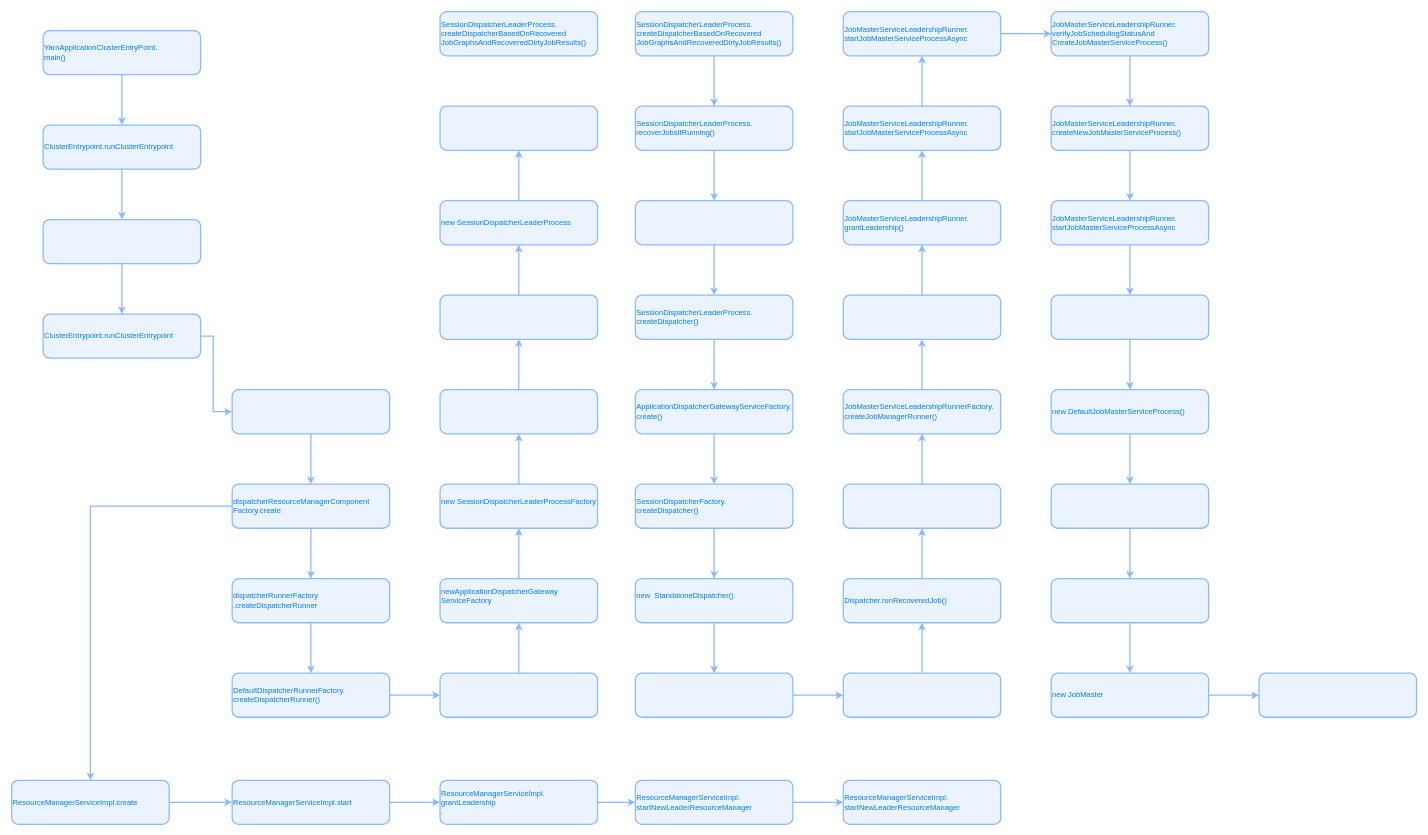
Some shapes in this 1428 by 835 pixel diagram are drawn without their labels. The box of each missing label's shape, as (x1, y1, x2, y2) in pixels:
ApplicationDispatcherLeaderProcessFactory Factory.createFactory: (439, 672, 598, 718)
clusterEntrypoint.startCluster(): (42, 219, 201, 264)
create: (439, 389, 598, 434)
createDispatcherResourceManagerComponentFactory: (231, 389, 390, 434)
DefaultJobMasterServiceFactory. createJobMasterService(): (1050, 483, 1209, 529)
DefaultJobMasterServiceFactory. internalCreateJobMasterService(): (1050, 578, 1209, 623)
DefaultJobMasterServiceProcessFactory. create(): (1050, 294, 1209, 340)
Dispatcher.onStart(): (634, 672, 793, 718)
Dispatcher.runJob(createJobMasterRunner(): (842, 483, 1001, 529)
Dispatcher.startRecoveredJobs(): (842, 672, 1001, 718)
jobMaster.start(): (1258, 672, 1417, 718)
new JobMasterServiceLeadershipRunner: (842, 294, 1001, 340)
SessionDispatcherLeaderProcess. createDispatcherIfRunning(): (634, 200, 793, 245)
SessionDispatcherLeaderProcess. onStart(): (439, 105, 598, 151)
SessionDispatcherLeaderProcess.create: (439, 294, 598, 340)
